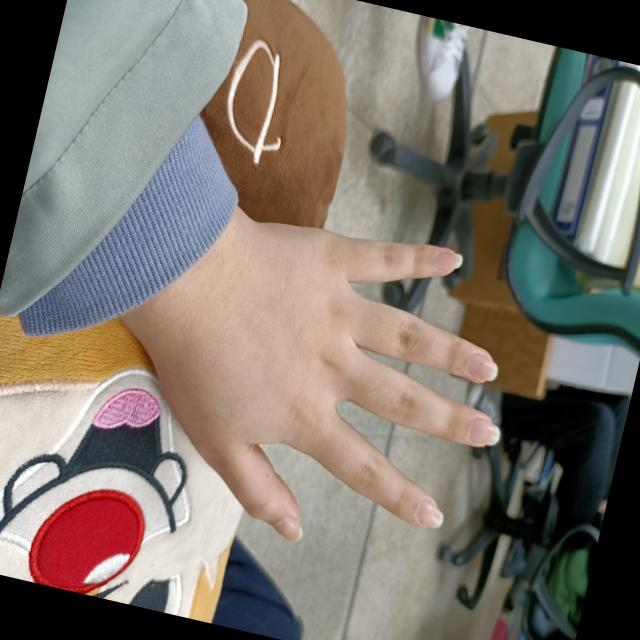Nail: (468, 416, 498, 445), (465, 353, 496, 381), (270, 515, 301, 541), (415, 499, 442, 527), (434, 252, 461, 270)
